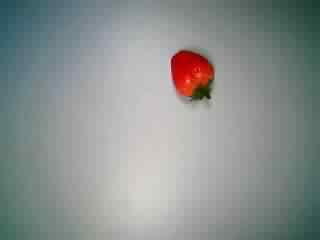strawberry: (156, 48, 224, 112)
